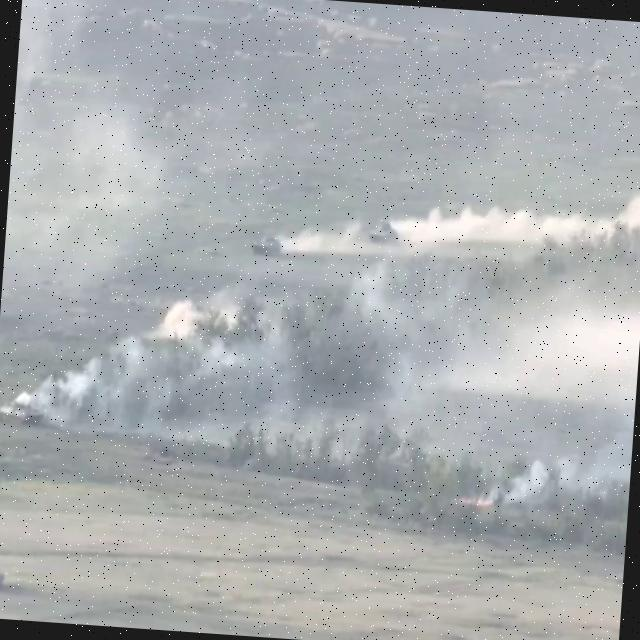AIFV: (1, 394, 46, 427), (365, 219, 404, 248), (251, 231, 286, 263)
MBT: (1, 560, 12, 596)
